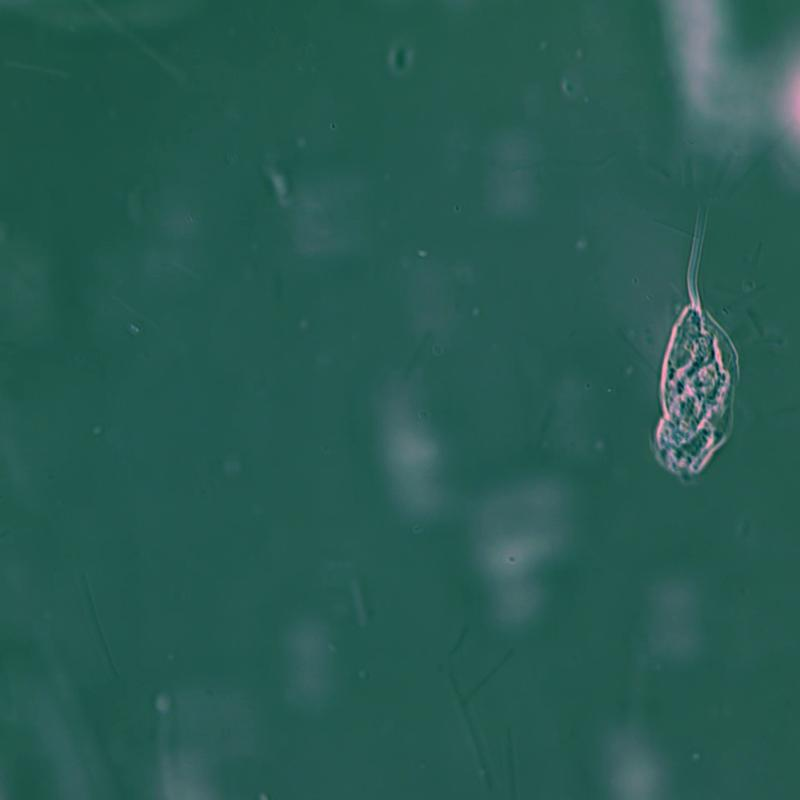depth:0: (630, 190, 771, 505)
